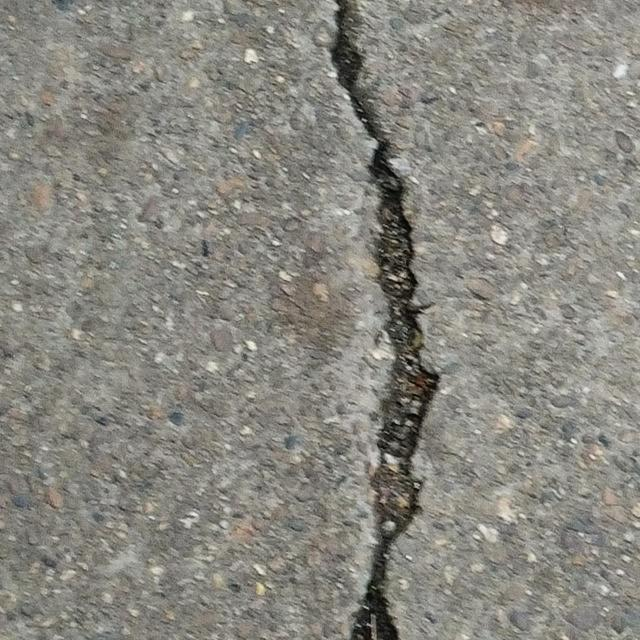LongitudinalCrack: (329, 1, 441, 640)
